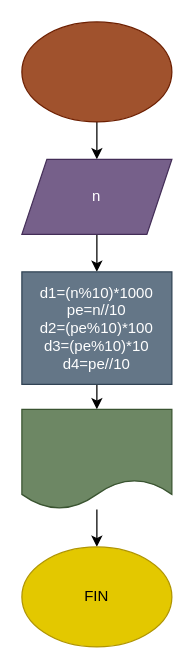
Some shapes in this 194 by 669 pixel diagram are drawn without their labels. The shapes that lost their labels are listed below. From the top down, each one's centre as x and y in pixels, then its label:
At point (96, 71): "INICIO".
At point (96, 458): "ni".
